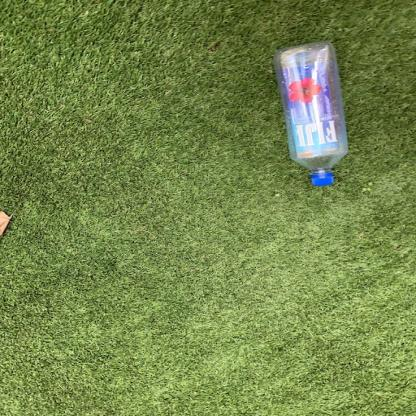trash: (274, 43, 352, 188)
